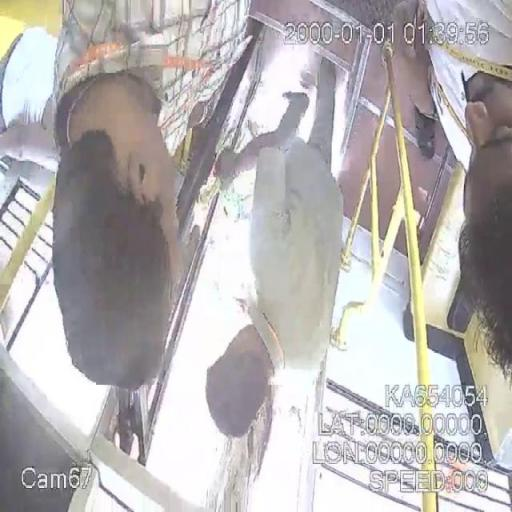persona: (50, 0, 252, 392), (202, 50, 348, 436), (400, 0, 510, 463)
